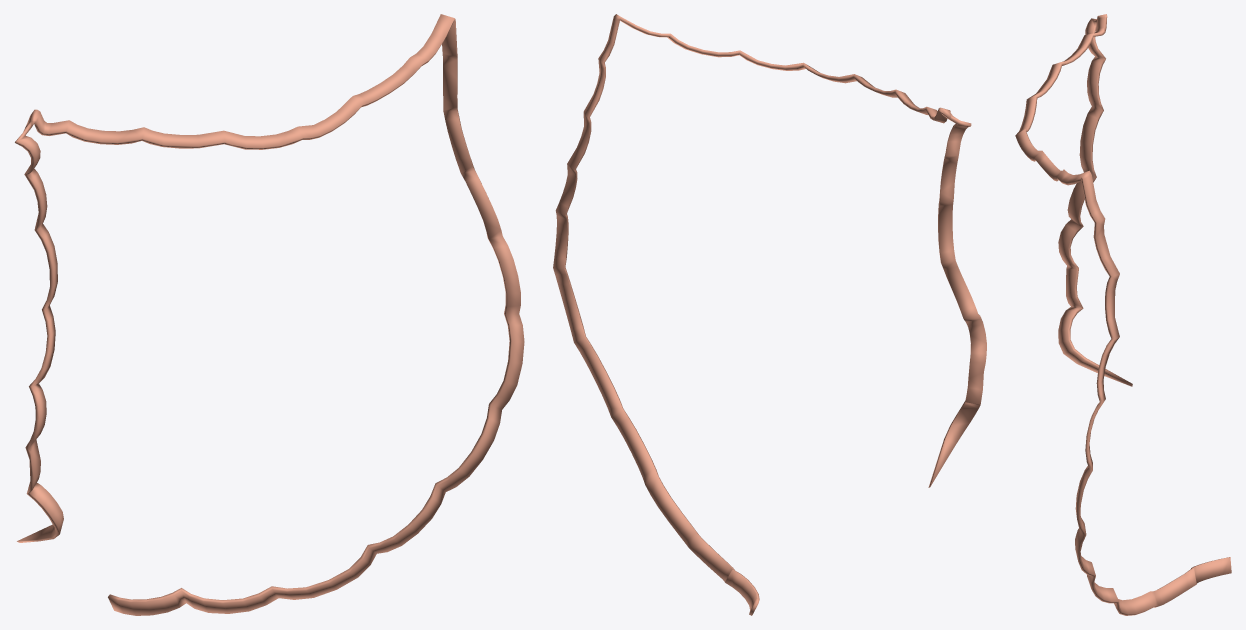
The model's file is visceras-omental-taenia.glb.
3 views of the same model, side by side, from view 1: azimuth 30°, elevation 25°; view 2: azimuth 150°, elevation 25°; view 3: azimuth 270°, elevation 25° (orthographic). The views are drawn at different scales.
Parts seen in each view (by area): view 1: Omental taenia; view 2: Omental taenia; view 3: Omental taenia.
Part boxes in pixels (x1,y1,x2,y2): Omental taenia: [15, 14, 524, 615]; Omental taenia: [553, 14, 986, 615]; Omental taenia: [1015, 14, 1231, 615].
Bounding box in the file's own units: 0.1803 × 0.2038 × 0.0796.
